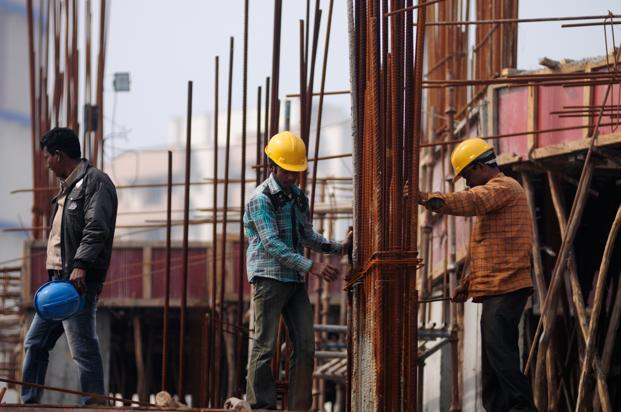NOTSAFE: (37, 129, 117, 278)
NoJacket: (449, 137, 534, 302), (245, 132, 314, 282)
